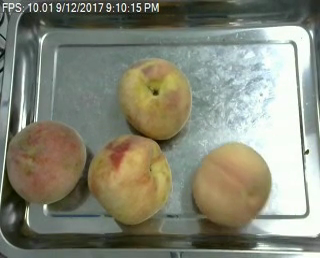Peach: (87, 132, 170, 223), (191, 141, 272, 229), (6, 119, 86, 204), (118, 56, 192, 139)
